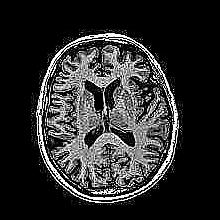Normal_Brain: (6, 4, 203, 220)
